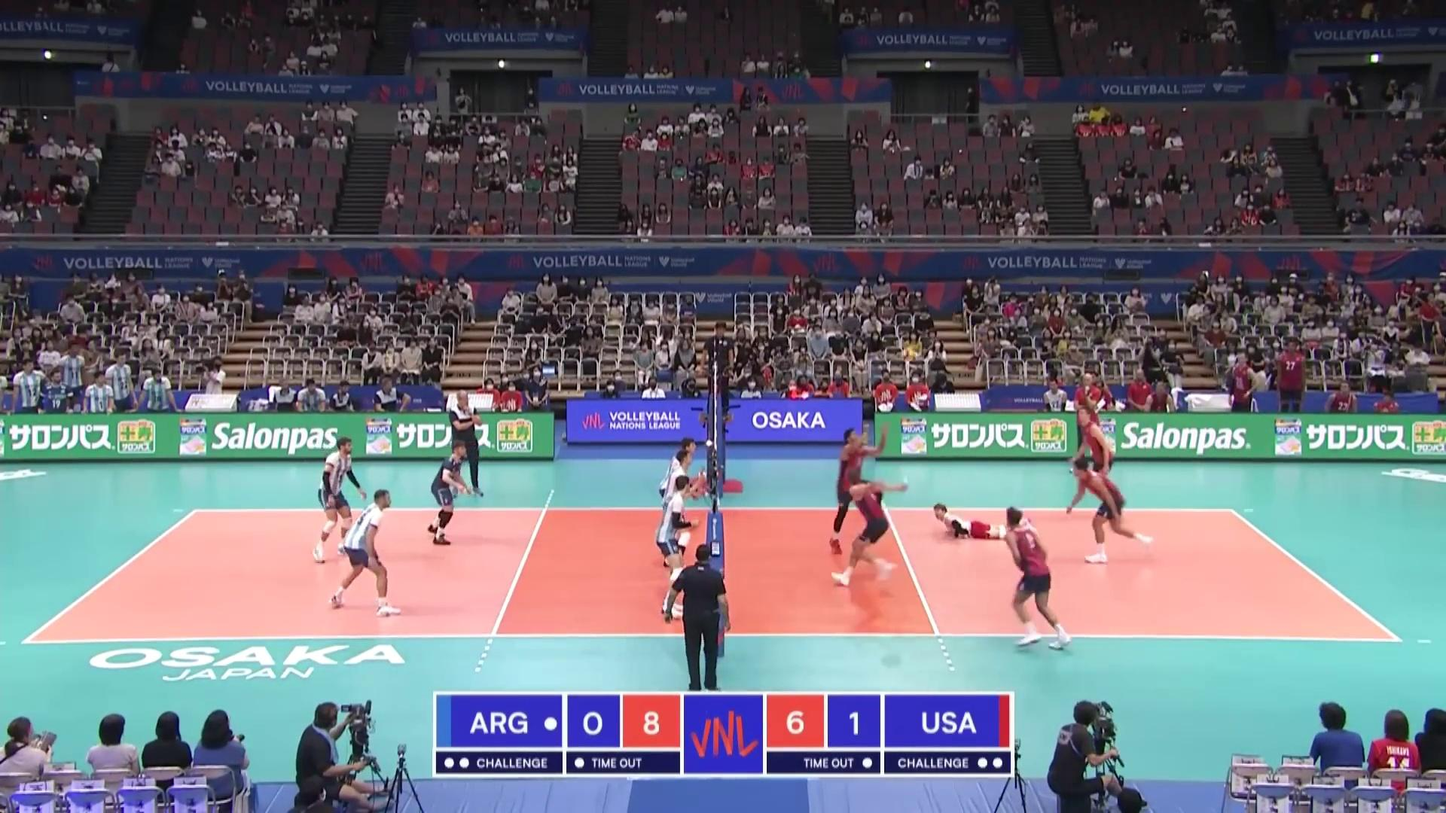player: (1000, 508, 1074, 652), (1068, 457, 1157, 567), (327, 488, 399, 616), (830, 468, 910, 583), (832, 426, 887, 551), (312, 439, 366, 565), (658, 477, 692, 625), (423, 442, 468, 546), (931, 499, 1027, 545), (659, 437, 697, 550), (1075, 408, 1118, 507), (664, 451, 694, 574)
refree: (668, 544, 732, 691), (703, 320, 735, 426)
